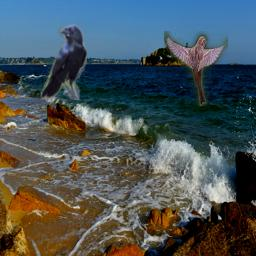Crow: (40, 24, 87, 100)
Sparrow: (164, 31, 228, 106)
